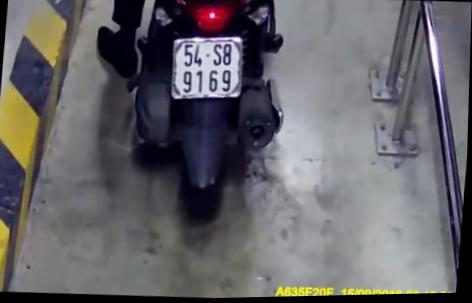LP: (169, 33, 248, 104)
